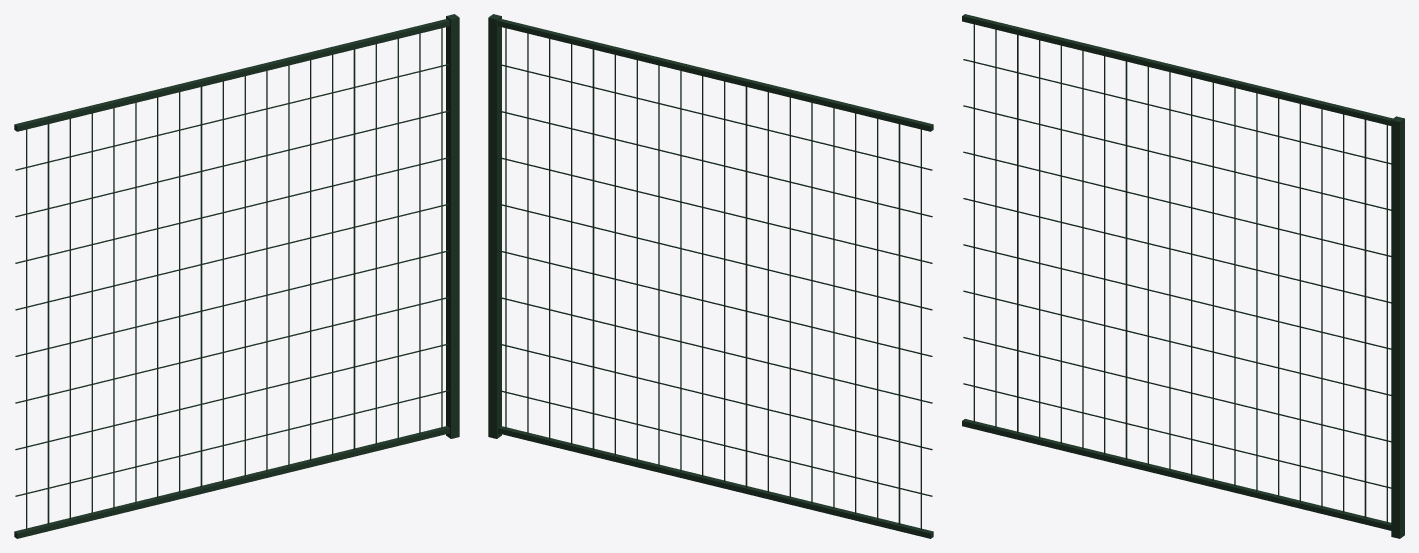
The model's file is SM_Prop_court_fence_0.glb.
3 views of the same model, side by side, from view 1: azimuth 30°, elevation 25°; view 2: azimuth 150°, elevation 25°; view 3: azimuth 330°, elevation 25° (orthographic).
Parts seen in each view (by area): view 1: SM_Prop_court_fence_0; view 2: SM_Prop_court_fence_0; view 3: SM_Prop_court_fence_0.
Part boxes in pixels (x1,y1,x2,y2): SM_Prop_court_fence_0: (14,14,459,538); SM_Prop_court_fence_0: (488,14,933,538); SM_Prop_court_fence_0: (962,14,1404,538).
Size of the model in its own units: 3.03 by 2.75 by 0.06.
